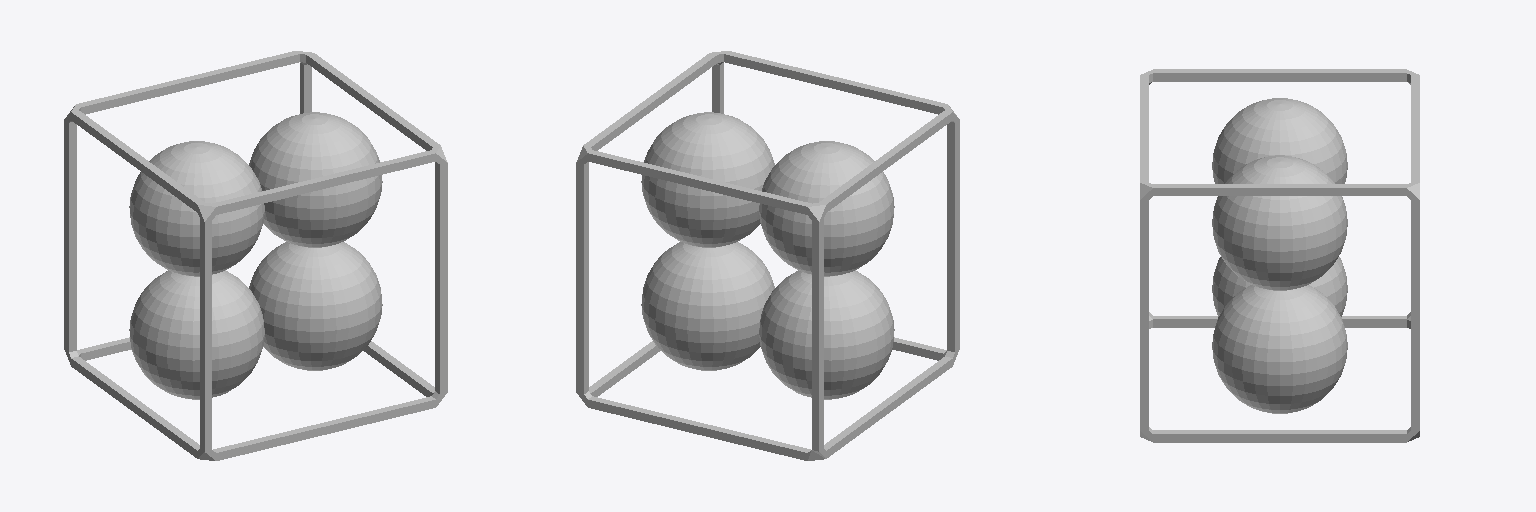
File: stage_3.obj
3 renders of one model, left to right at view 1: azimuth 30°, elevation 25°; view 2: azimuth 150°, elevation 25°; view 3: azimuth 270°, elevation 25°, orthographic.
Parts seen in each view (by area): view 1: Cube_Cube.002, Sphere.001, Sphere, Sphere.003_Sphere.004, Sphere.002_Sphere.003; view 2: Cube_Cube.002, Sphere.001, Sphere, Sphere.003_Sphere.004, Sphere.002_Sphere.003; view 3: Cube_Cube.002, Sphere.001, Sphere.003_Sphere.004, Sphere.002_Sphere.003, Sphere.
Part boxes in pixels (x1,y1,x2,y2): Cube_Cube.002: (64,51,447,460); Sphere.001: (249,242,382,370); Sphere: (129,270,264,399); Sphere.003_Sphere.004: (249,112,382,247); Sphere.002_Sphere.003: (129,141,264,276); Cube_Cube.002: (576,51,959,460); Sphere.001: (641,242,774,370); Sphere: (759,270,894,399); Sphere.003_Sphere.004: (641,112,774,247); Sphere.002_Sphere.003: (759,141,894,276); Cube_Cube.002: (1140,69,1419,442); Sphere.001: (1212,285,1347,413); Sphere.003_Sphere.004: (1212,155,1347,290); Sphere.002_Sphere.003: (1212,98,1347,183); Sphere: (1212,257,1347,316).
Bounding box in the file's own units: 1.03 × 1.03 × 1.03.